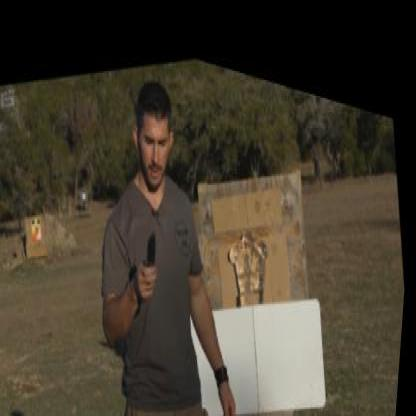knife: (134, 210, 168, 290)
